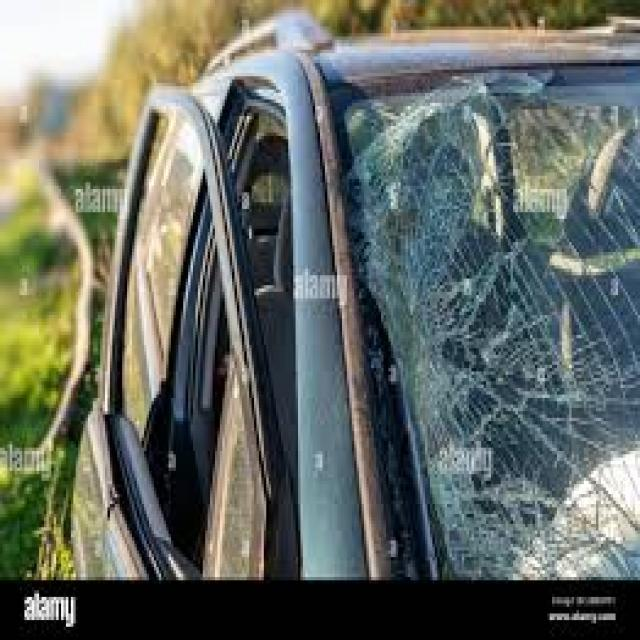damaged-windscreen: (311, 56, 640, 575)
